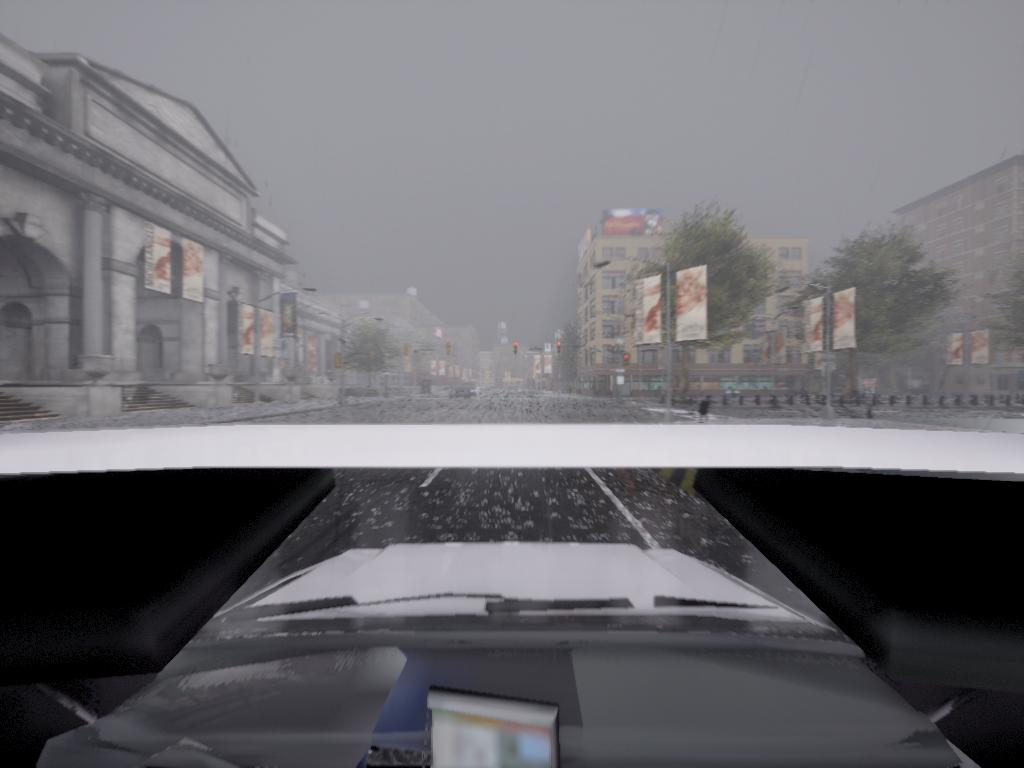traffic_light: (514, 343, 521, 357), (625, 353, 631, 367), (446, 343, 452, 357), (405, 344, 410, 359), (370, 350, 376, 362), (558, 343, 562, 356)
